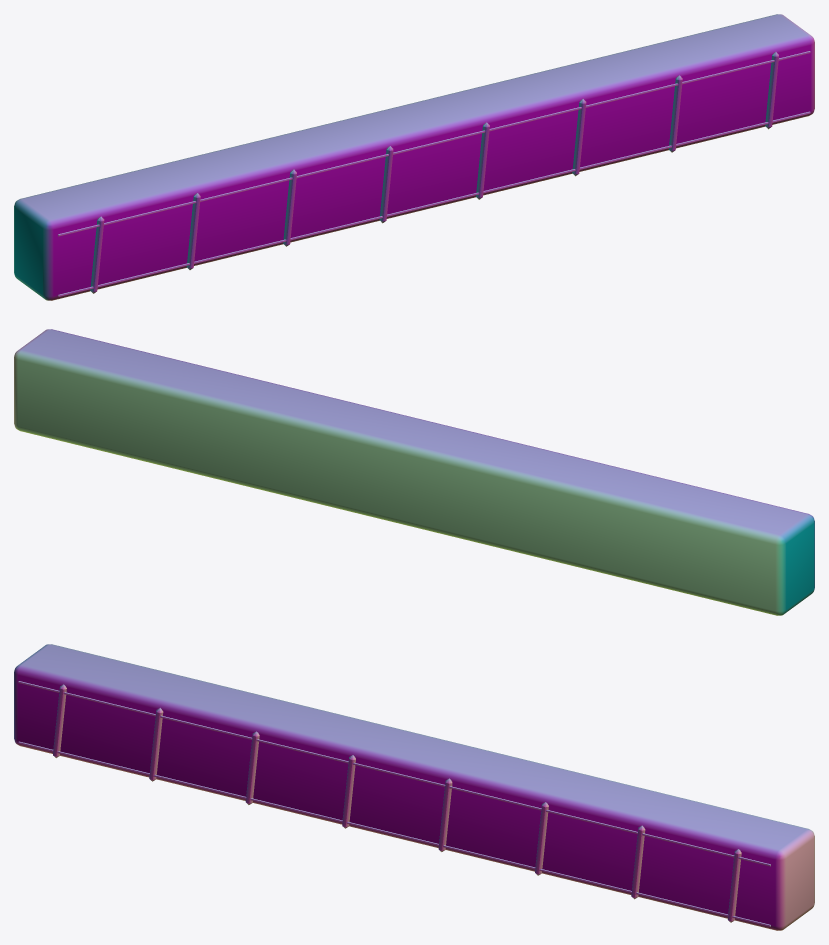
Rendered from env_sofa_skirt.glb.
3 renders of one model, top to bottom at view 1: azimuth 30°, elevation 25°; view 2: azimuth 150°, elevation 25°; view 3: azimuth 330°, elevation 25°, orthographic.
Parts seen in each view (by area): view 1: env_sofa_skirt_mesh; view 2: env_sofa_skirt_mesh; view 3: env_sofa_skirt_mesh.
Boxes of the visible parts, x1=… form: env_sofa_skirt_mesh: x1=14, y1=14, x2=814, y2=300; env_sofa_skirt_mesh: x1=14, y1=329, x2=814, y2=615; env_sofa_skirt_mesh: x1=14, y1=644, x2=814, y2=930.
Size of the model in its own units: 2 by 0.2 by 0.1718.
